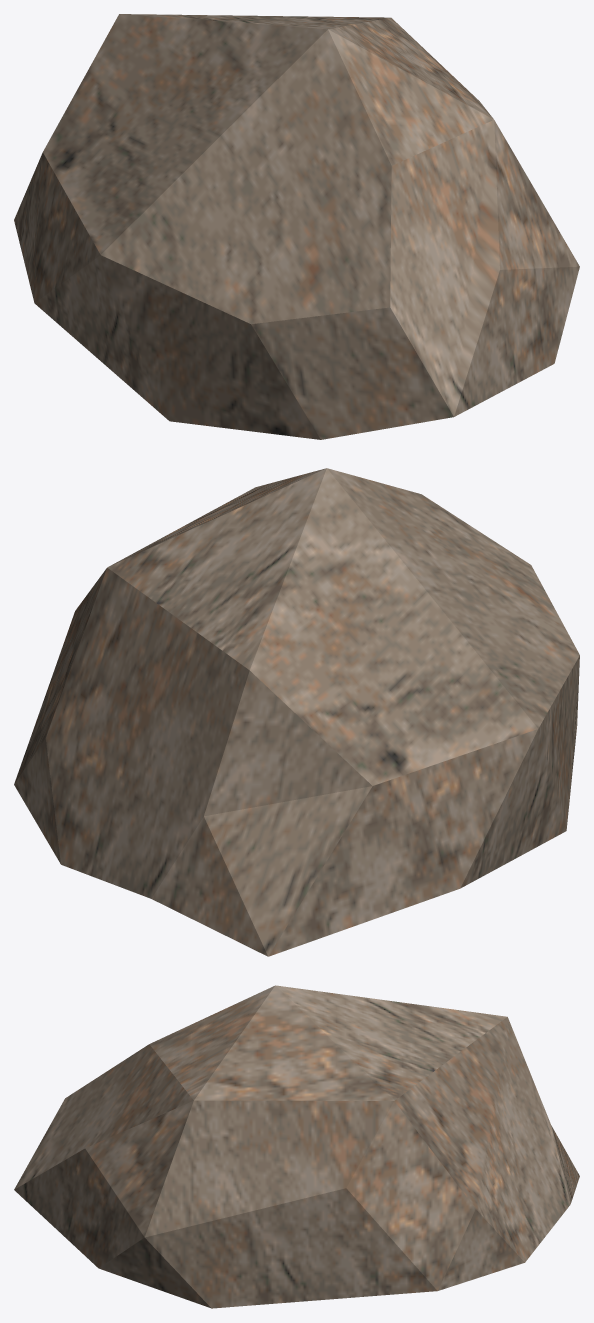
File: rockMedBrown.fbx
3 views of the same model, one above another, from view 1: azimuth 30°, elevation 25°; view 2: azimuth 150°, elevation 25°; view 3: azimuth 270°, elevation 25° (orthographic). The views are drawn at different scales.
Visible parts, largest first — view 1: rockMedium2; view 2: rockMedium2; view 3: rockMedium2.
Boxes of the visible parts, x1,y1,x2,y2 form: rockMedium2: [14, 14, 579, 439]; rockMedium2: [14, 468, 579, 956]; rockMedium2: [14, 985, 579, 1308].
Size of the model in its own units: 4.72 by 6.8 by 3.5.
1 material, 1 textured.
